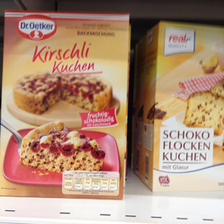cake: (1, 11, 131, 195), (142, 21, 224, 194)
